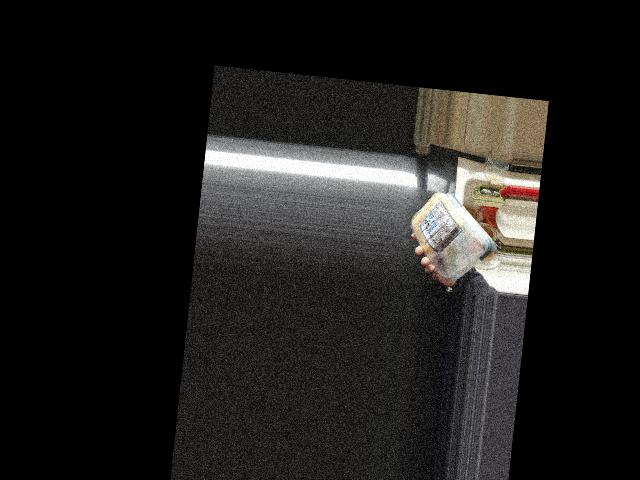cheese: (410, 189, 489, 283)
